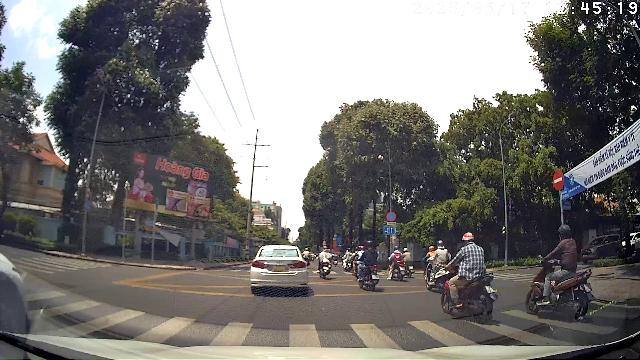102-cam-di-nguoc-chieu: (552, 168, 565, 191)
131a-cam-do-xe: (386, 211, 396, 221)
